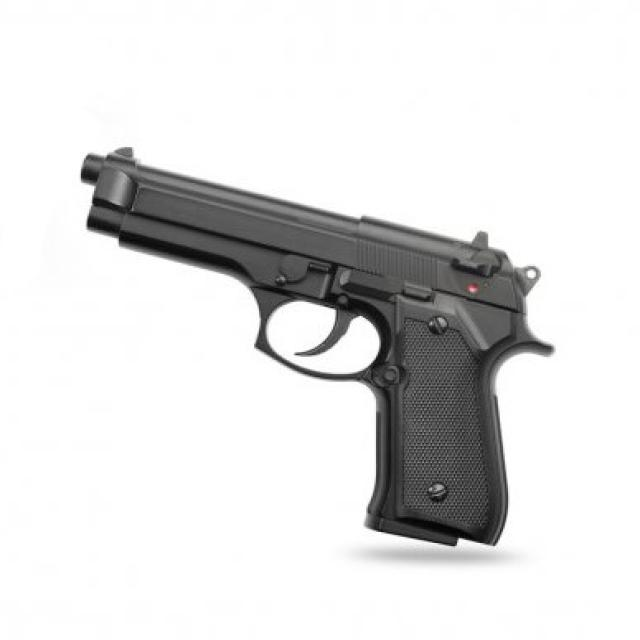pistol: (76, 136, 559, 566)
